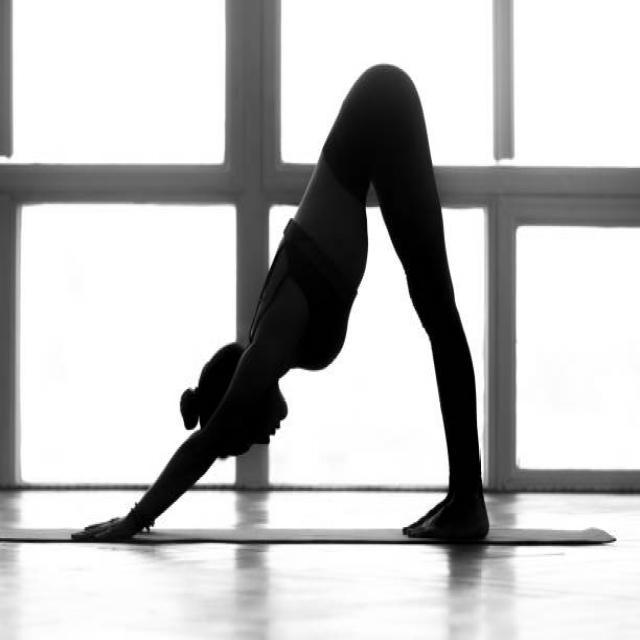Downward-Facing_Dog: (70, 57, 511, 555)
